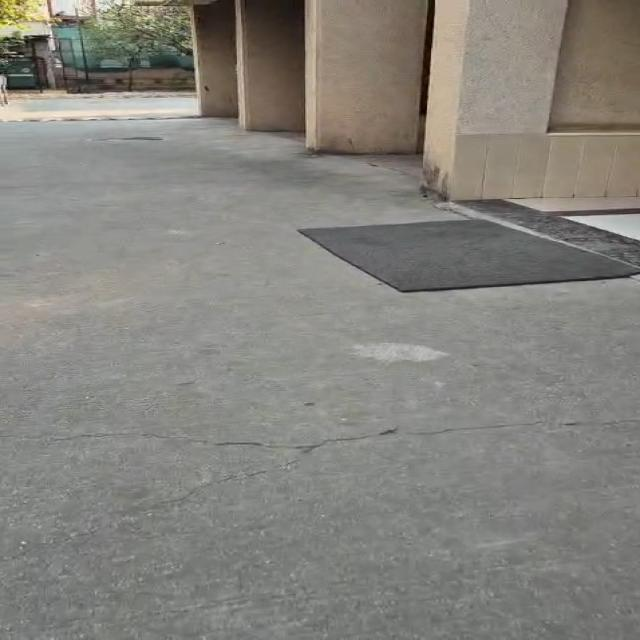pothole: (312, 214, 639, 299)
